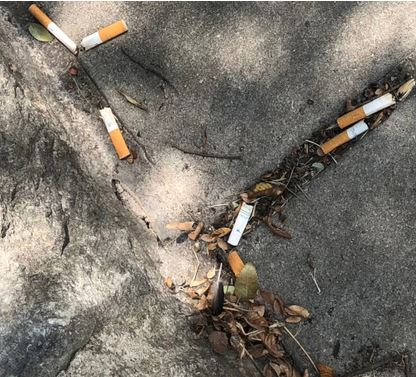trash: (317, 88, 402, 159), (214, 197, 276, 287), (30, 4, 128, 59), (96, 104, 135, 162)
